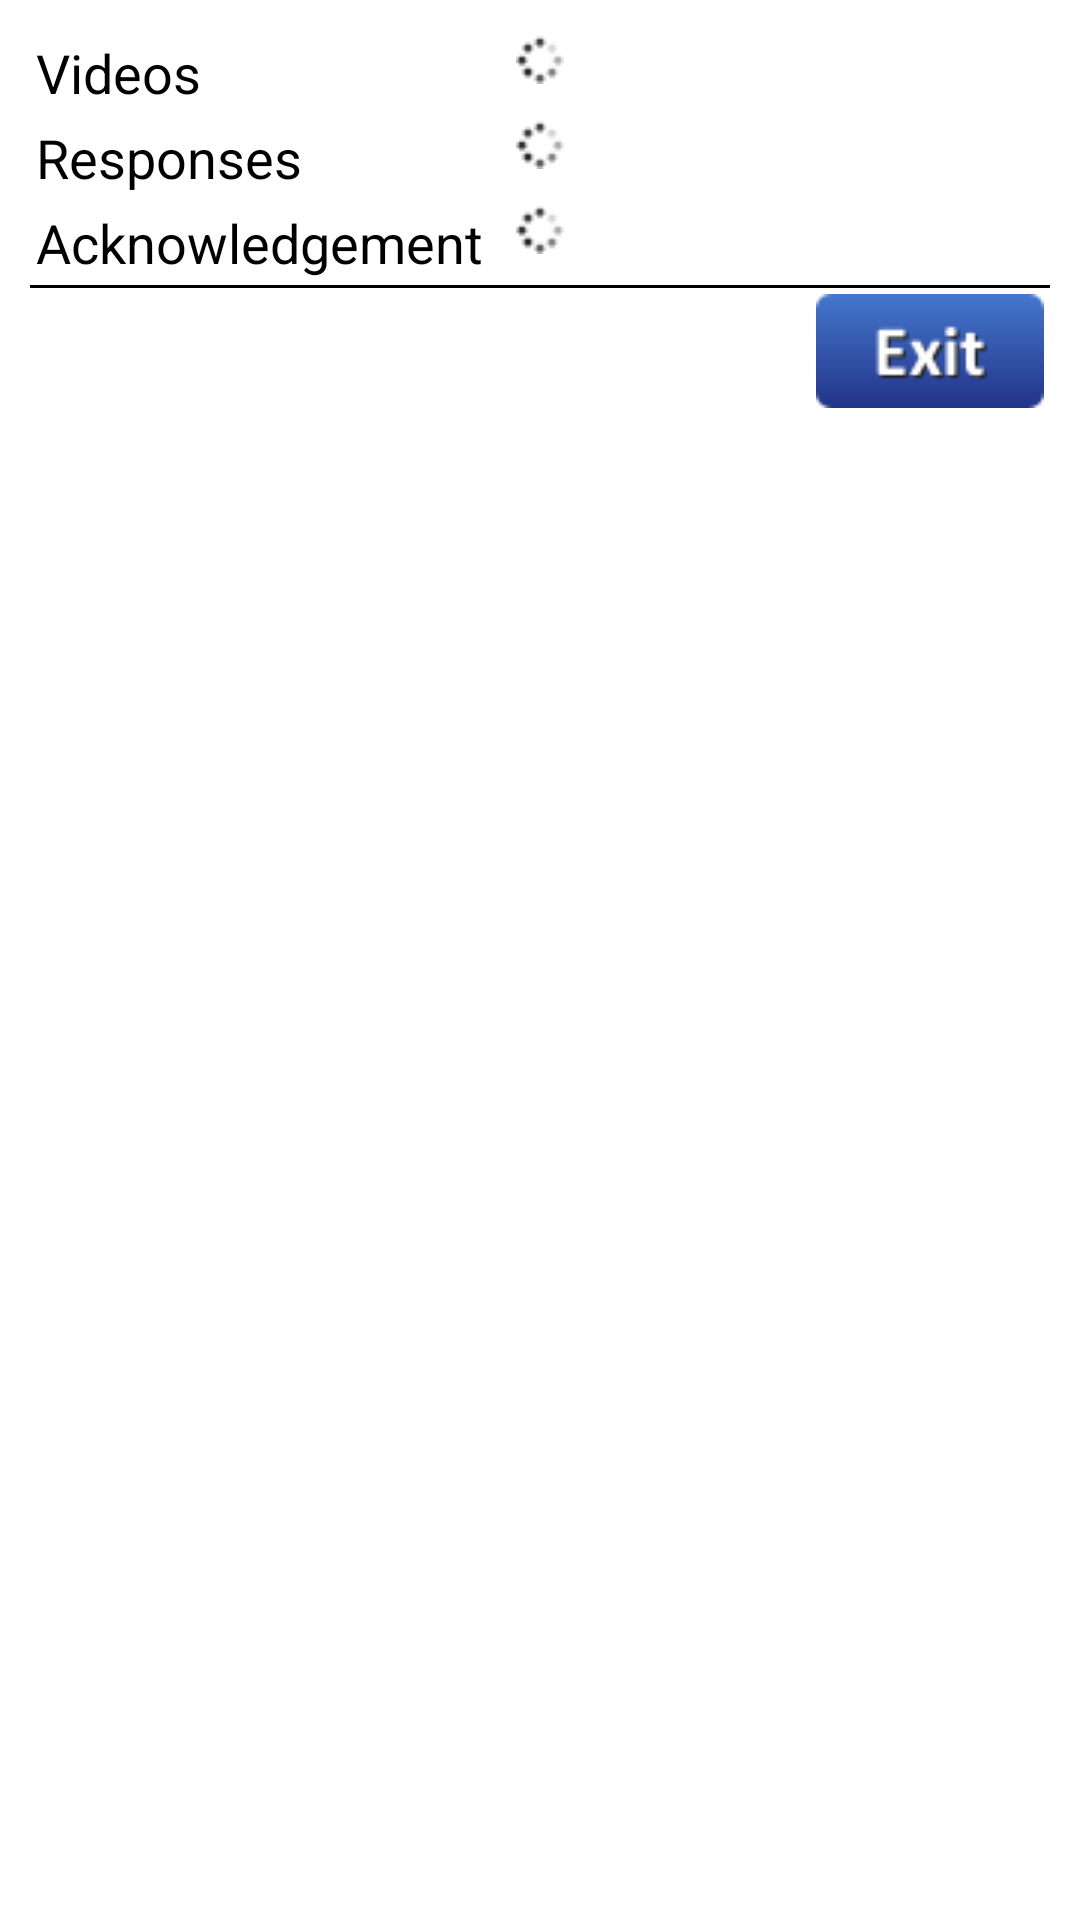

Where to tap for icons on this 1080px x 1920px app screen, as (x,y):
process: (540,60), (540,145), (540,230)
